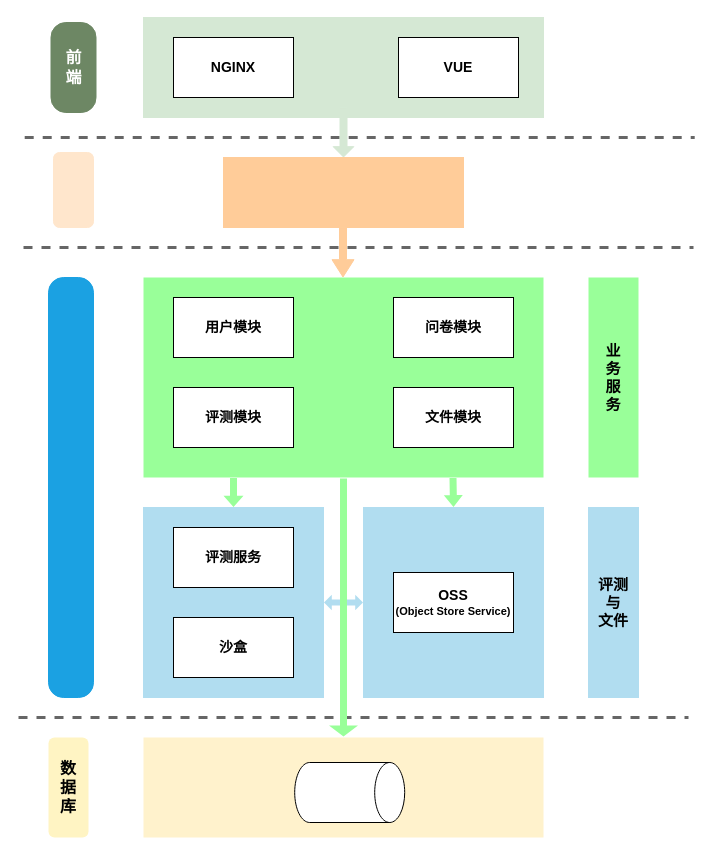
The diagram is 715 pixels wide and 855 high, and some of its shapes have lost their labels. Here are the shapes that lost their labels. From the top down, the centre of each, then its label:
At [73,190]: "交 互".
At [343,192]: "RESTful API".
At [71,487]: "后 端".
At [349,792]: "MYSQL".
